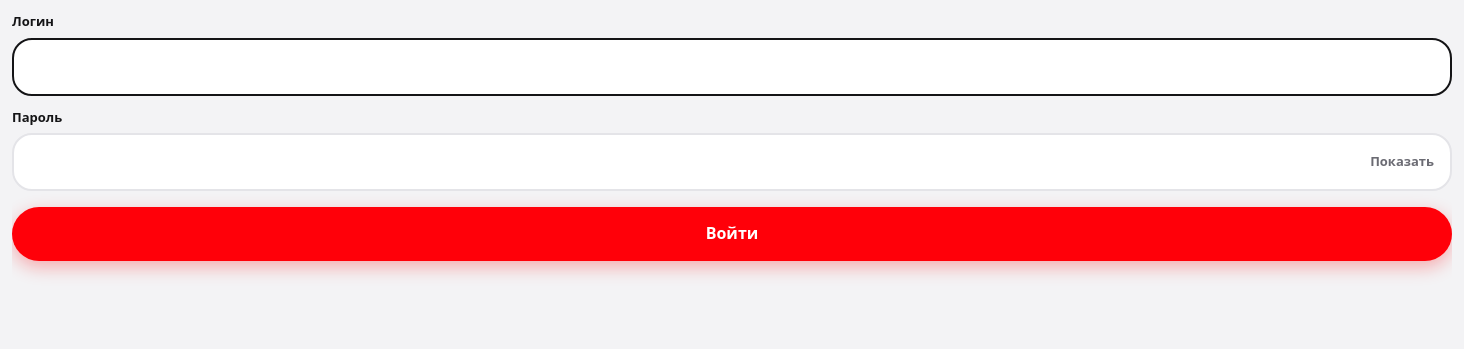
Test: LoginForm › explains a rejected login instead of failing silently
Type "rangsoz" into the field labelled "Логин". click: (732, 66)
box: [12,38,1452,96]
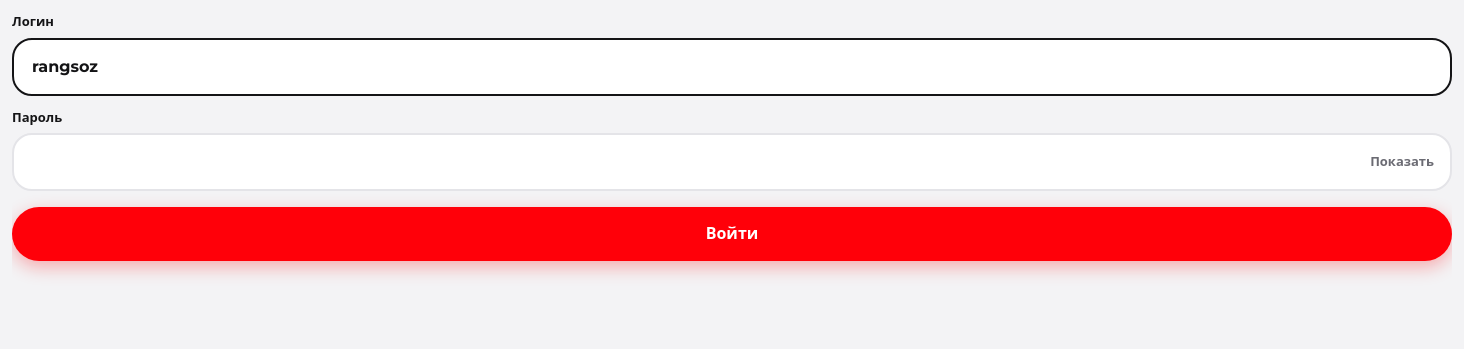
Type "wrong" into the password field labelled "Пароль". click: (732, 162)
box: [12,133,1452,191]
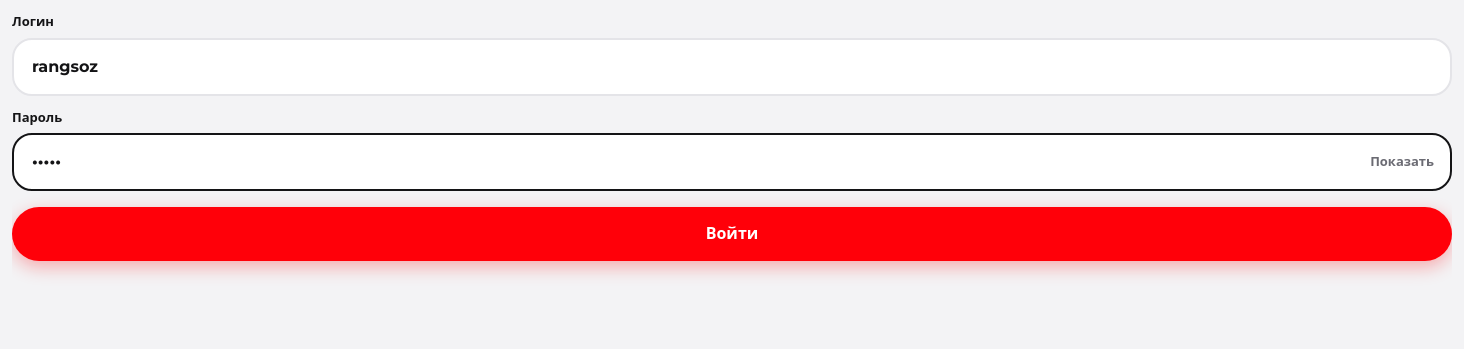
Click the button "Войти". click: (732, 234)
box: [12,207,1452,261]
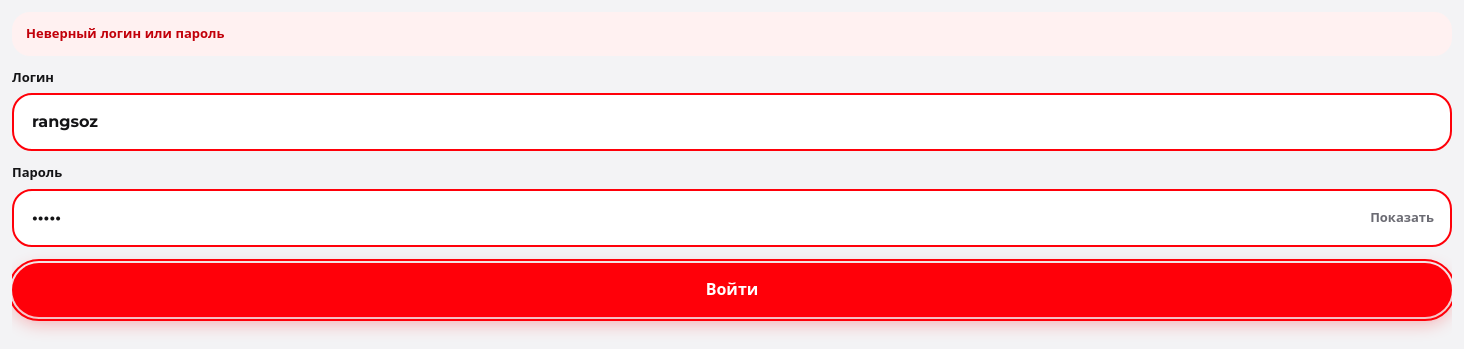
Check: the text "Неверный логин или пароль" is shown, box [12,12,1452,56]
